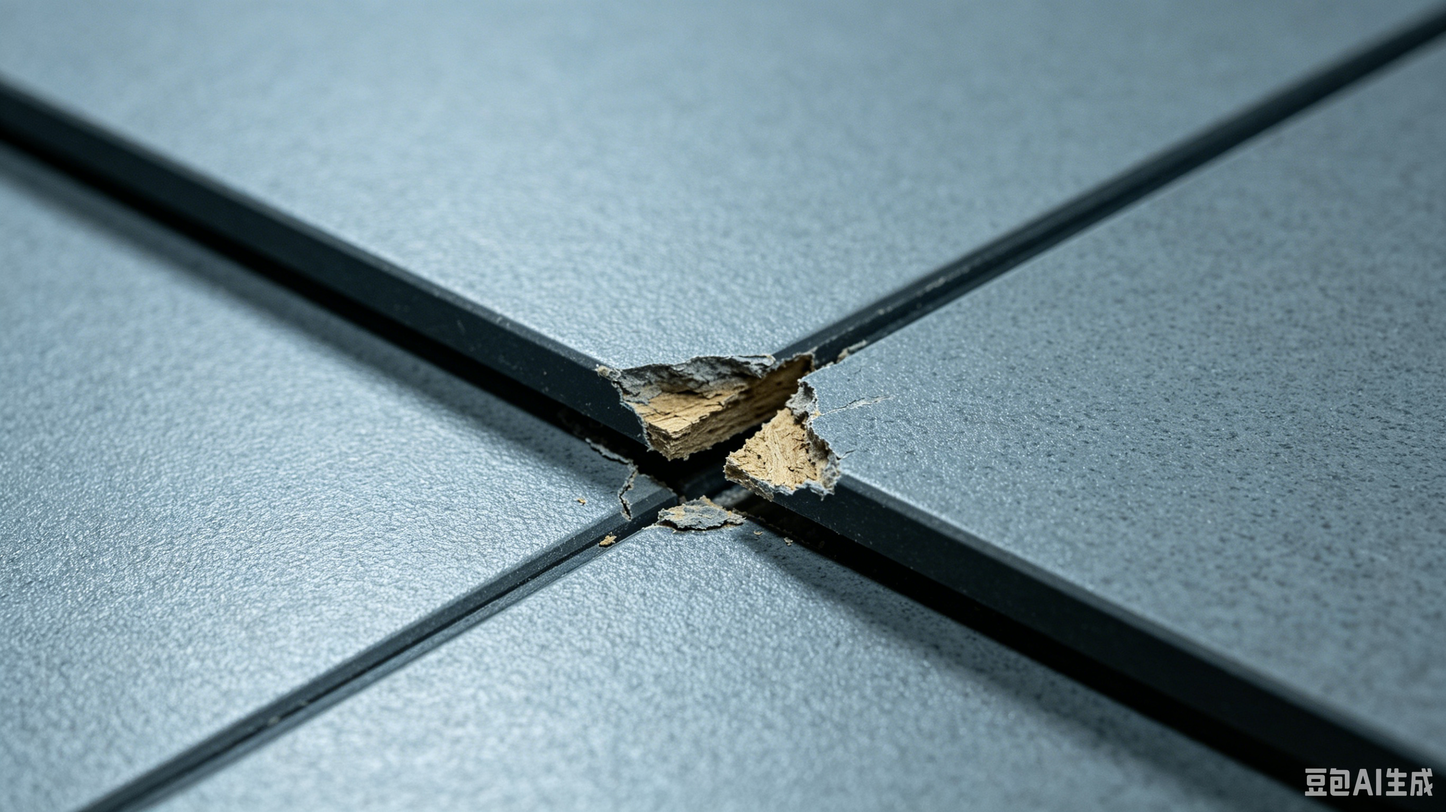floor_defect: (500, 293, 969, 596)
